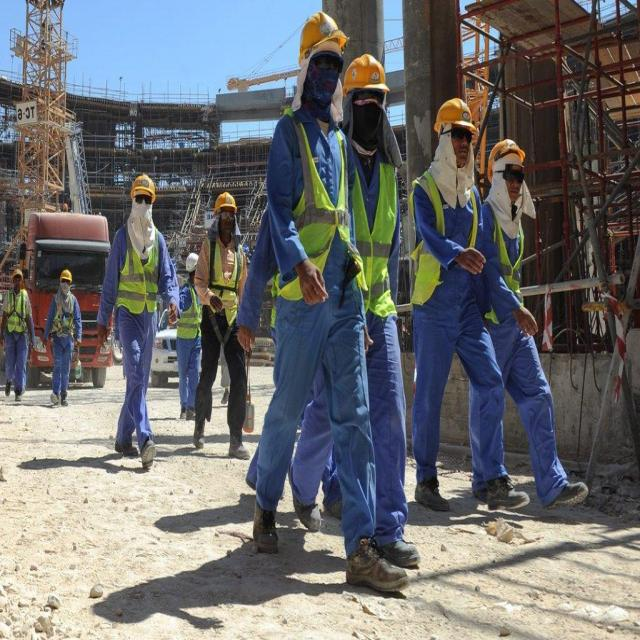Reflective-Jacket: (272, 112, 349, 298), (408, 168, 482, 308), (344, 147, 401, 319), (114, 223, 162, 315), (202, 234, 245, 326), (175, 280, 202, 338), (52, 293, 77, 338), (7, 287, 30, 334)
Safety-Helmet: (296, 7, 349, 59), (341, 50, 391, 96), (433, 92, 478, 134), (129, 170, 157, 197), (214, 190, 238, 212), (61, 267, 73, 281)
